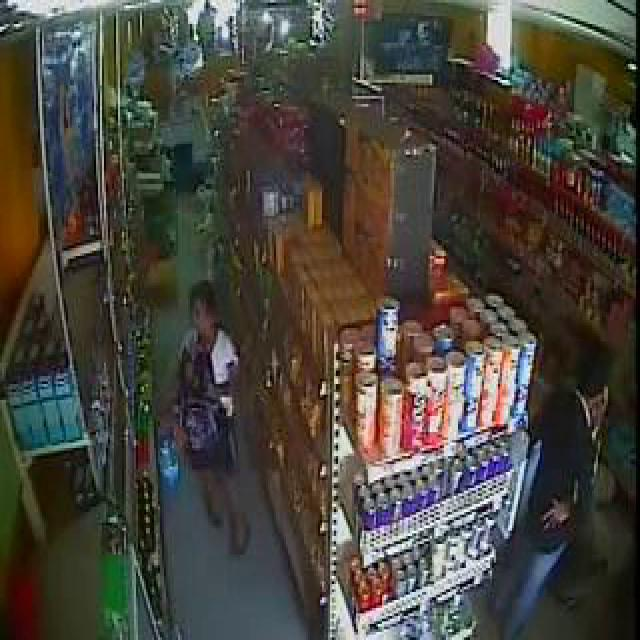shoplifting: (157, 167, 356, 603)
